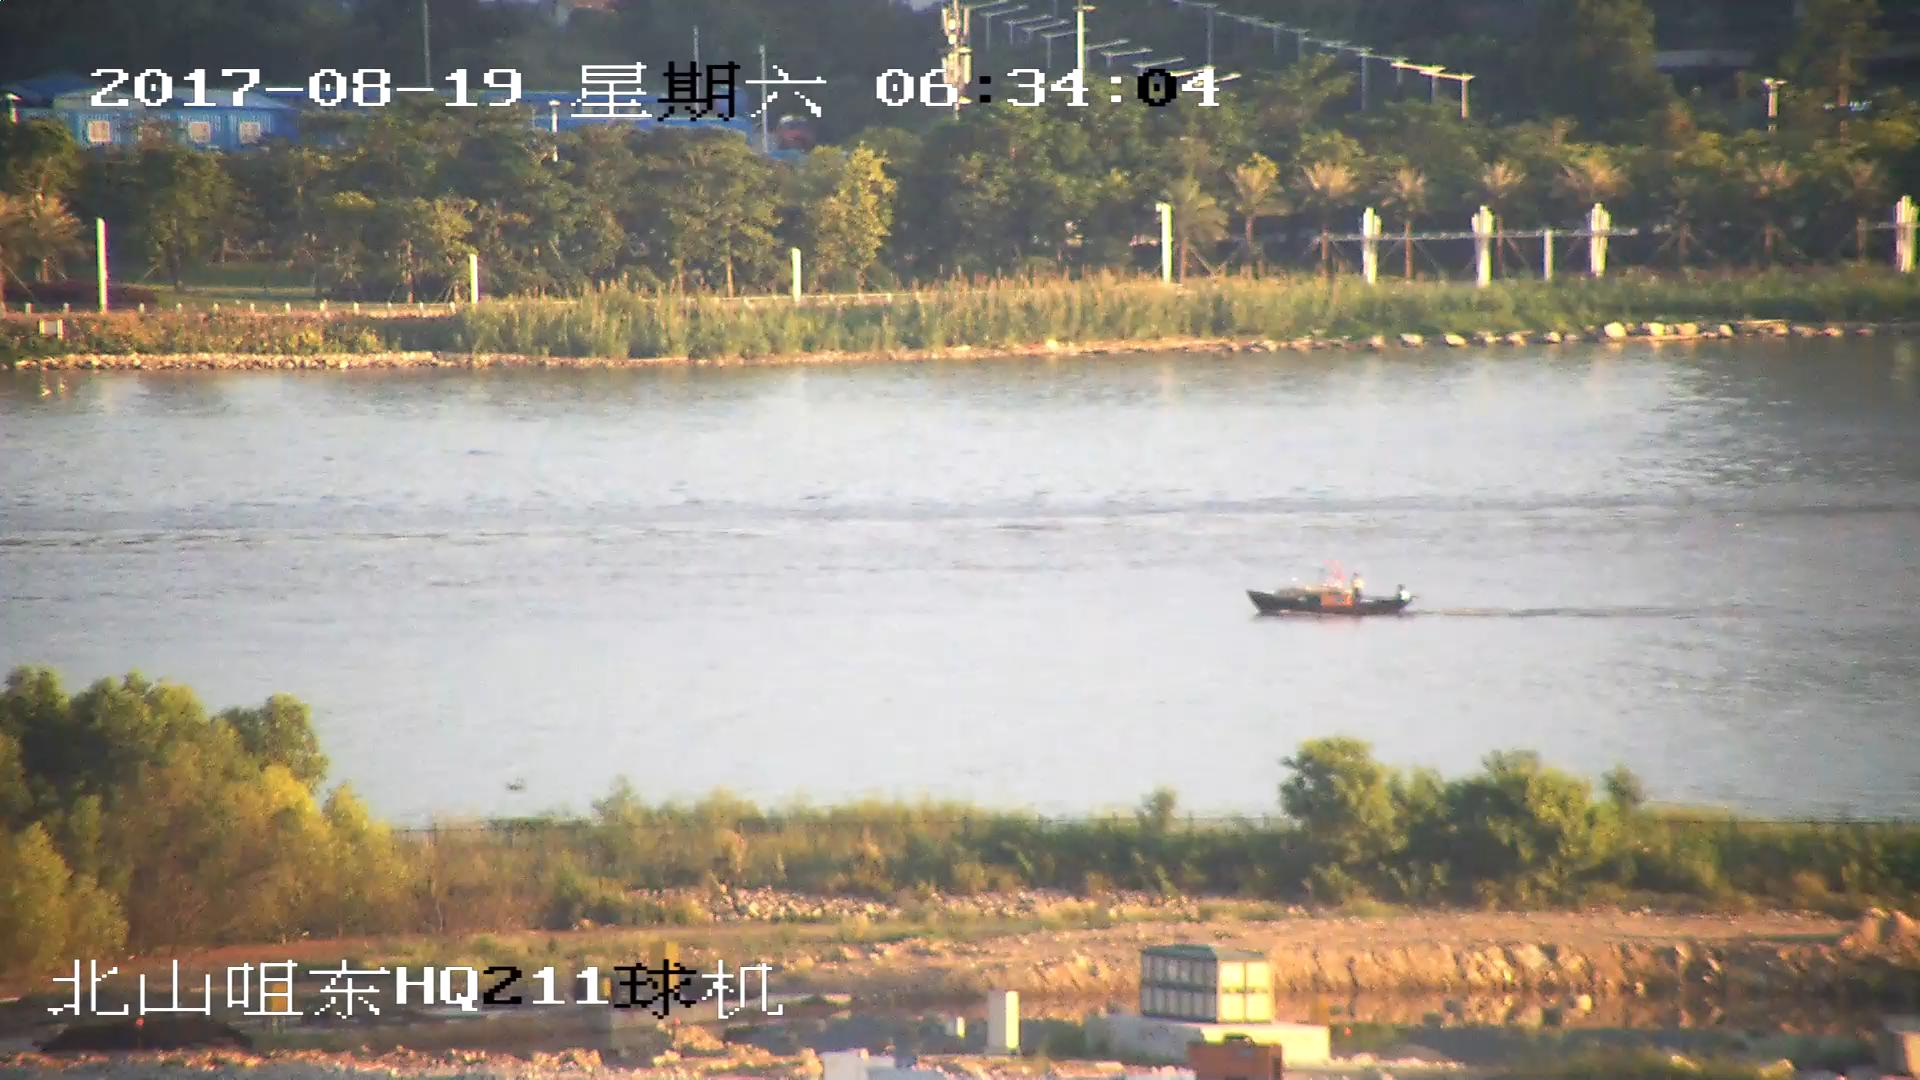fishing boat: (1247, 567, 1410, 618)
